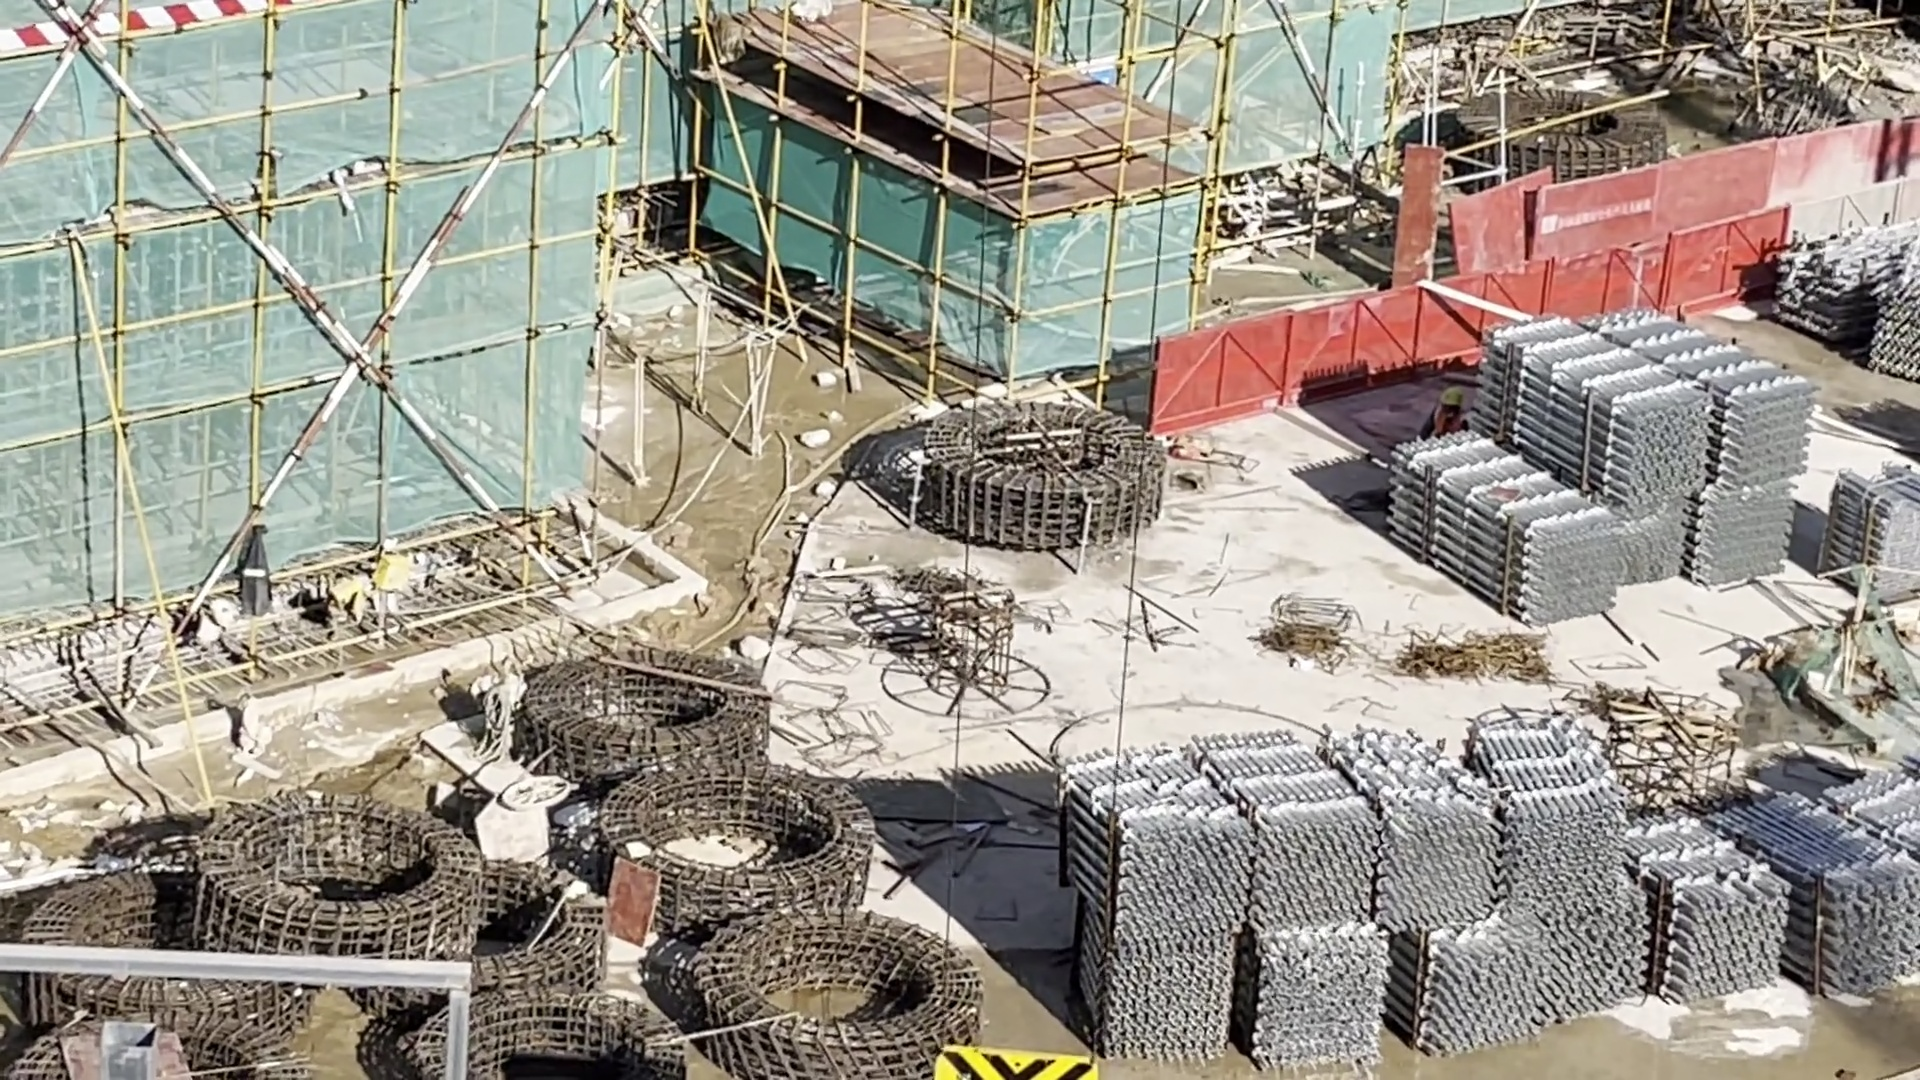fence: (1149, 180, 1920, 435)
helmet: (1441, 375, 1471, 420)
person: (1426, 374, 1466, 454)
scaffold: (1076, 725, 1920, 1078), (1382, 309, 1805, 616), (1786, 220, 1920, 373), (1830, 468, 1920, 603)
